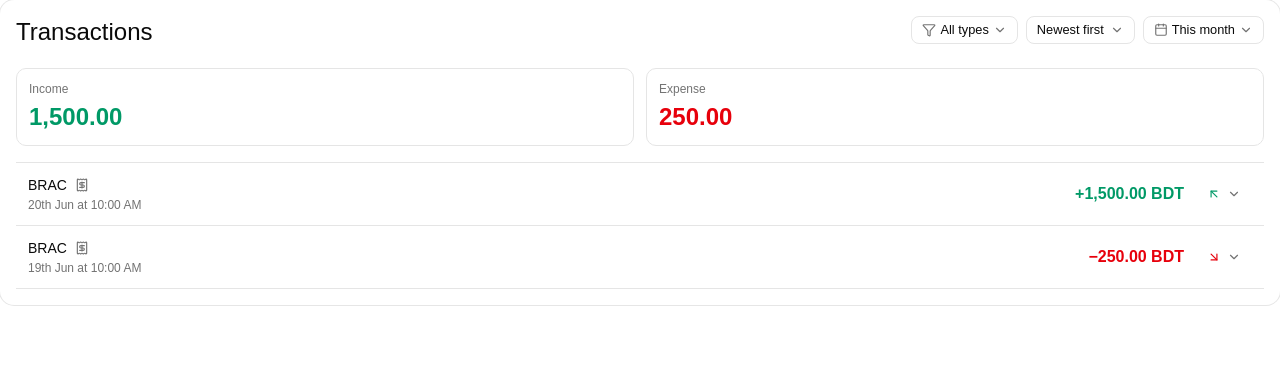
TransactionsSection › does not refetch a message that is already cached
Expected: the text "+1,500.00 BDT" is shown, [1075,182,1184,206]
What coordinates should you click on to do the following:
click the button with aria-label "toggle message for brac"
I would click on:
 (47, 185)
Its box is [28,177,1252,212].
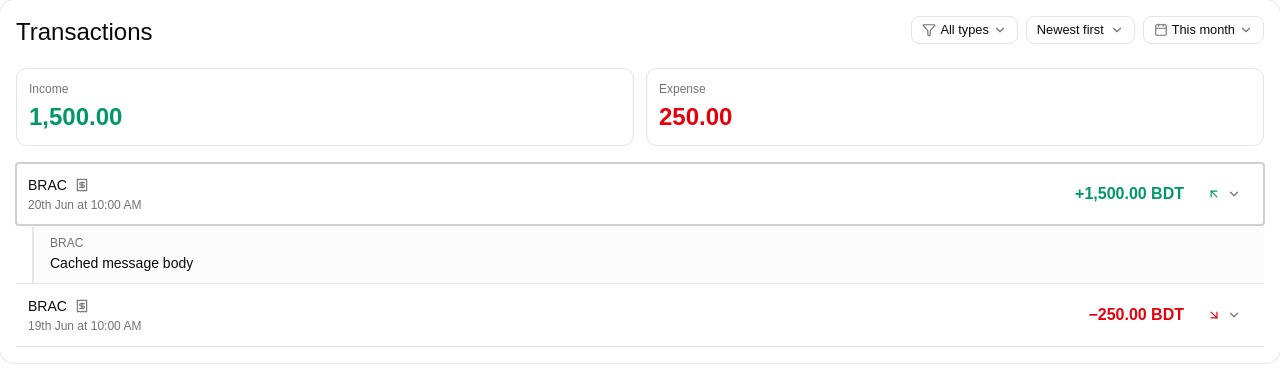
Now the text "Cached message body" is shown, box [50,255,193,271]
What coordinates should you click on to do the following:
click the button with aria-label "toggle message for brac"
I would click on:
 (47, 185)
Its box is [28,177,1252,212].
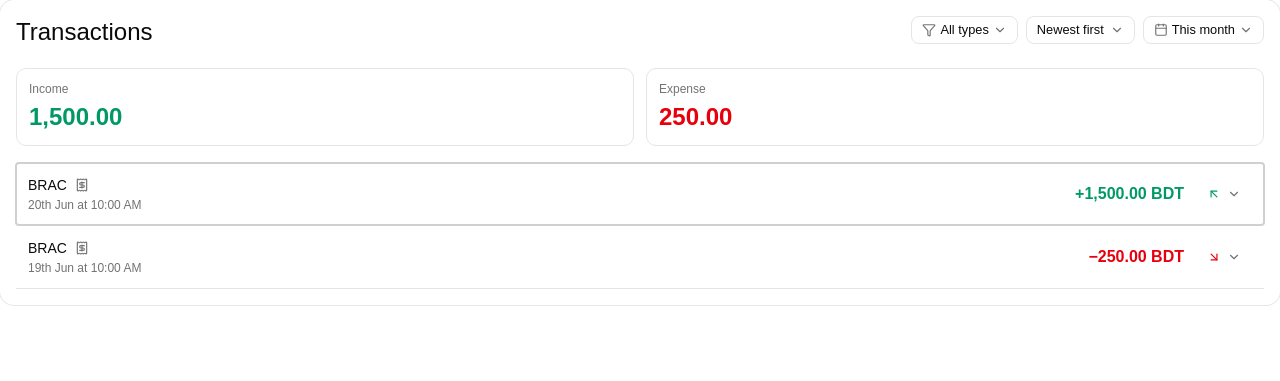
Now the text "Cached message body" is gone
What coordinates should you click on to do the following:
click the button with aria-label "toggle message for brac"
I would click on:
 (47, 185)
Its box is [28,177,1252,212].
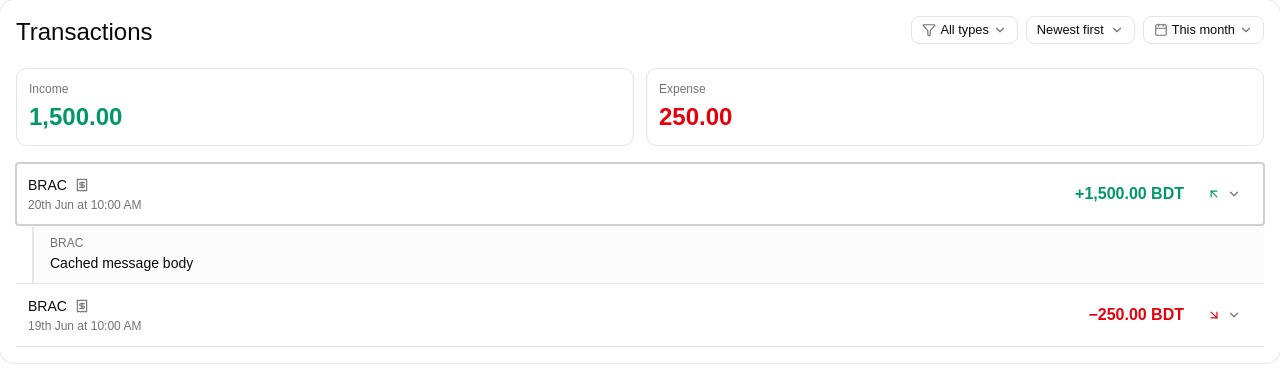
Now the text "Cached message body" is shown, box [50,255,193,271]
